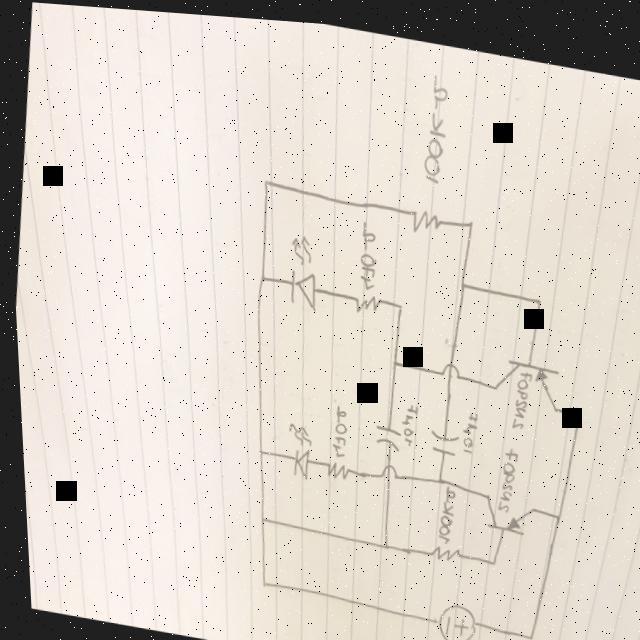capacitor: (423, 419, 457, 453), (367, 414, 399, 447)
crossover: (434, 349, 458, 375), (372, 456, 395, 475)
diode: (279, 225, 322, 308), (278, 414, 311, 478)
junction: (525, 279, 543, 305), (450, 268, 467, 289), (258, 167, 274, 189), (381, 346, 398, 366), (248, 568, 264, 587), (247, 439, 263, 457), (251, 263, 267, 280), (249, 506, 264, 523), (374, 533, 389, 549), (460, 206, 473, 224), (546, 499, 560, 515), (390, 292, 403, 309), (568, 399, 580, 414), (519, 618, 530, 634), (480, 547, 493, 560), (430, 468, 441, 479)
resistor: (407, 197, 443, 232), (349, 284, 380, 312), (318, 450, 349, 477), (423, 534, 457, 557)
source: (427, 591, 473, 640)
text: (417, 64, 455, 182), (351, 212, 379, 286), (490, 438, 517, 506), (504, 360, 531, 426), (324, 397, 346, 453), (430, 485, 451, 538), (393, 394, 416, 442), (455, 398, 476, 448), (437, 636, 457, 640)
transistor: (484, 345, 562, 406), (475, 482, 534, 532)
